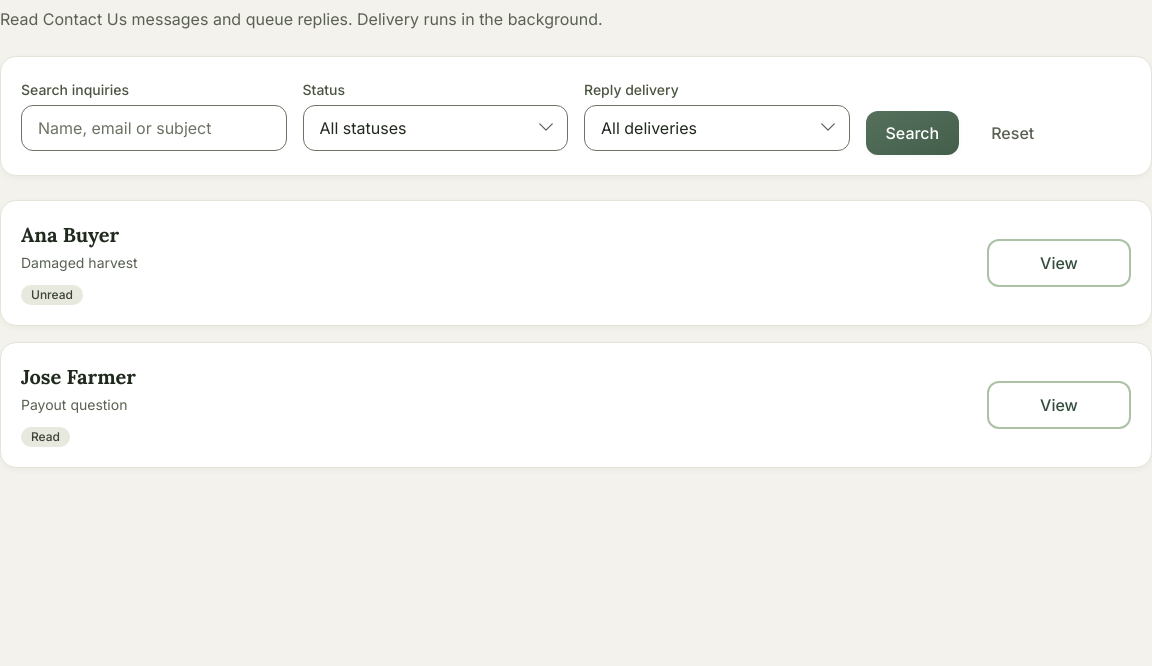
Test: AdminInquiriesPage.vue › opens the detail with a GET and zero POST requests
Click the button "View" in the row of "Damaged harvest" at (1059, 263), box [987,239,1131,287]
(page scrolled)
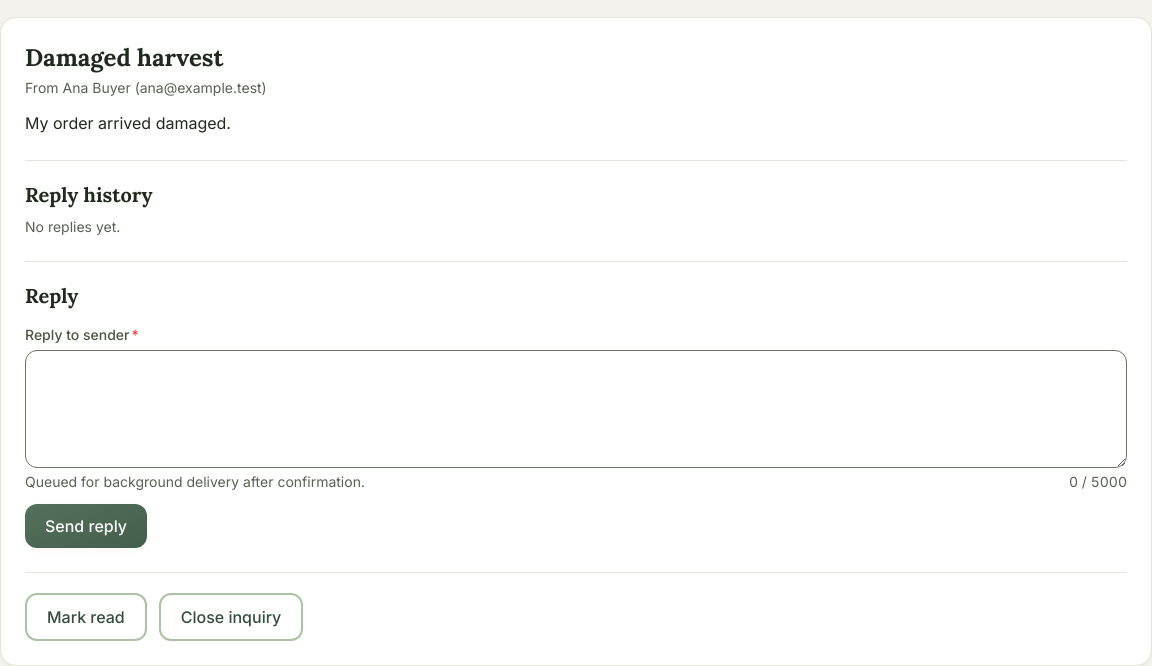
Now the element with test id "admin-inquiry-detail" is shown
Now the element with test id "admin-inquiry-detail" shows "Damaged harvest", box [25,42,223,73]
Now the element with test id "admin-inquiry-detail" shows "My order arrived damaged.", box [25,113,231,133]
